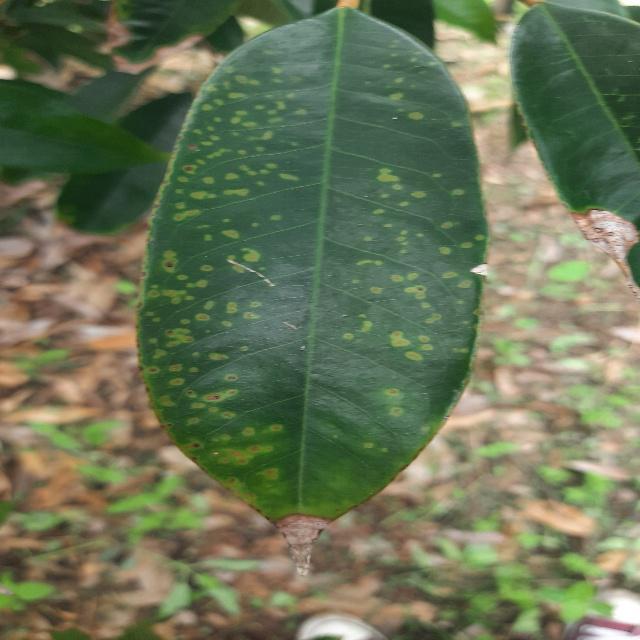Leaf Spot: (131, 0, 501, 563)
